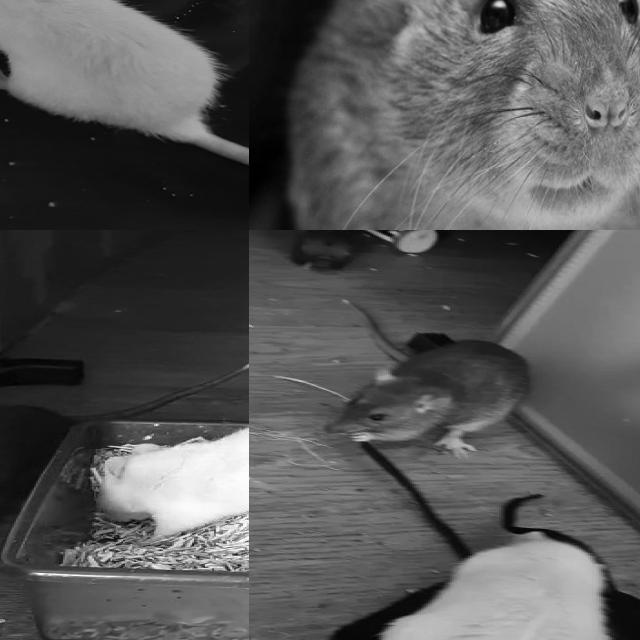rat: (305, 0, 640, 230), (0, 0, 225, 139), (366, 529, 613, 640), (317, 338, 537, 459), (88, 413, 249, 545), (0, 404, 72, 576)
